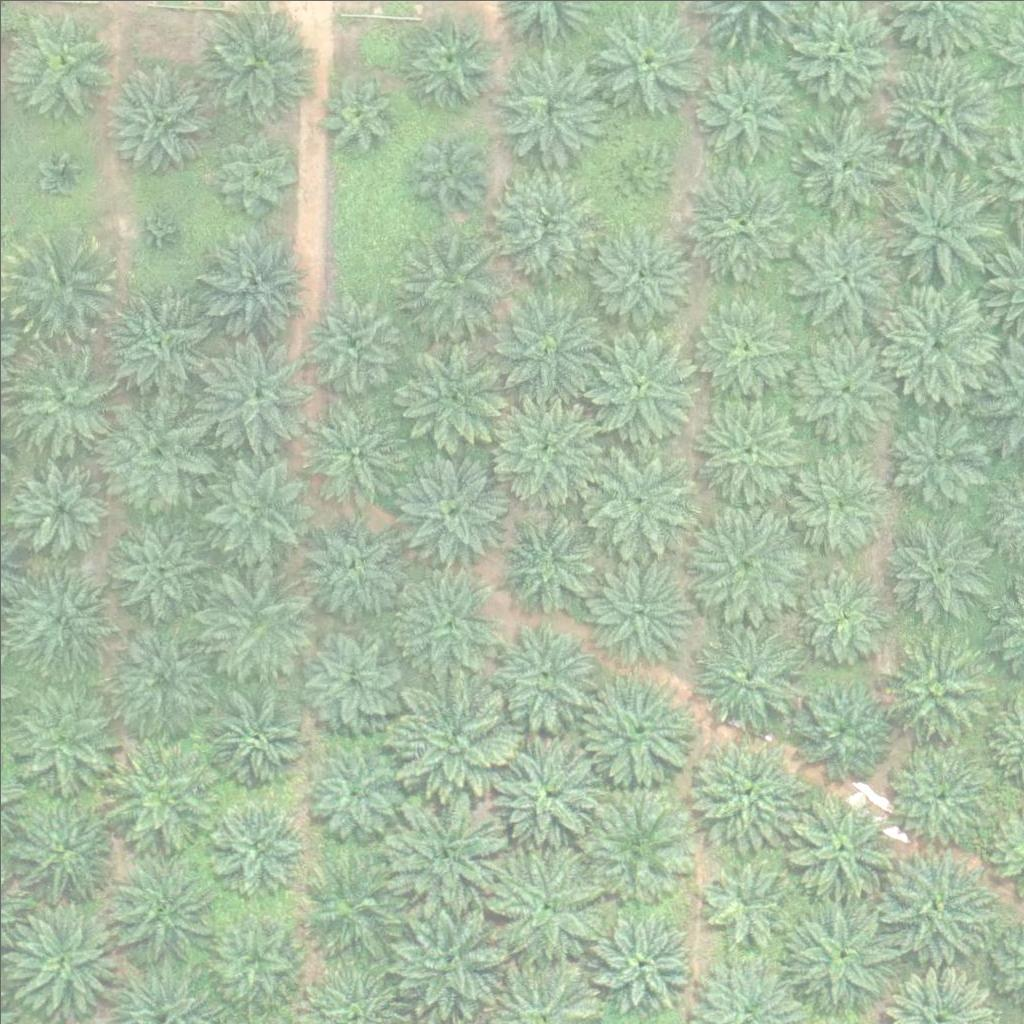Kelapa_Sawit: (102, 854, 215, 968), (4, 678, 117, 792), (1, 558, 114, 672), (487, 169, 600, 283), (581, 328, 694, 442), (881, 54, 994, 168), (783, 900, 896, 1013), (782, 795, 895, 908), (688, 735, 801, 848), (578, 676, 691, 789), (392, 901, 505, 1014), (390, 795, 503, 908), (396, 680, 509, 793), (7, 901, 120, 1014), (5, 792, 118, 905), (197, 449, 310, 562), (197, 336, 310, 449), (194, 221, 307, 334), (299, 400, 412, 513), (483, 389, 596, 502), (489, 294, 602, 407), (582, 554, 695, 667), (578, 438, 691, 551), (691, 619, 804, 732), (686, 505, 799, 618), (879, 286, 992, 399), (882, 174, 995, 287), (589, 3, 702, 116), (493, 46, 606, 159), (194, 8, 307, 121), (882, 633, 994, 747), (102, 729, 214, 843), (686, 390, 798, 504), (883, 509, 995, 623), (3, 7, 115, 121), (4, 232, 116, 345), (882, 846, 994, 959), (884, 736, 996, 849), (580, 790, 692, 903), (486, 848, 598, 961), (488, 742, 600, 855), (295, 847, 407, 960), (106, 621, 218, 734), (6, 342, 118, 455), (106, 396, 218, 509), (102, 289, 214, 402), (203, 567, 315, 680), (391, 563, 503, 676), (394, 452, 506, 565), (389, 340, 501, 453), (390, 233, 502, 346), (484, 618, 596, 731), (684, 165, 796, 278), (785, 328, 897, 441), (781, 218, 893, 331), (787, 109, 899, 222), (102, 58, 214, 171), (793, 680, 893, 781), (693, 847, 793, 948), (593, 914, 693, 1015), (303, 742, 403, 843), (301, 623, 401, 724), (201, 681, 301, 782), (9, 457, 109, 558), (107, 516, 207, 617), (301, 519, 401, 620), (300, 292, 400, 393), (491, 513, 591, 614), (691, 56, 791, 157), (206, 795, 306, 895), (586, 225, 686, 325), (693, 294, 793, 394), (792, 562, 892, 662), (787, 448, 887, 548), (884, 404, 984, 504), (403, 14, 491, 103), (212, 910, 300, 998), (208, 125, 295, 213), (407, 127, 482, 203), (321, 77, 396, 152), (603, 137, 665, 200), (130, 204, 180, 255), (36, 148, 86, 199)
